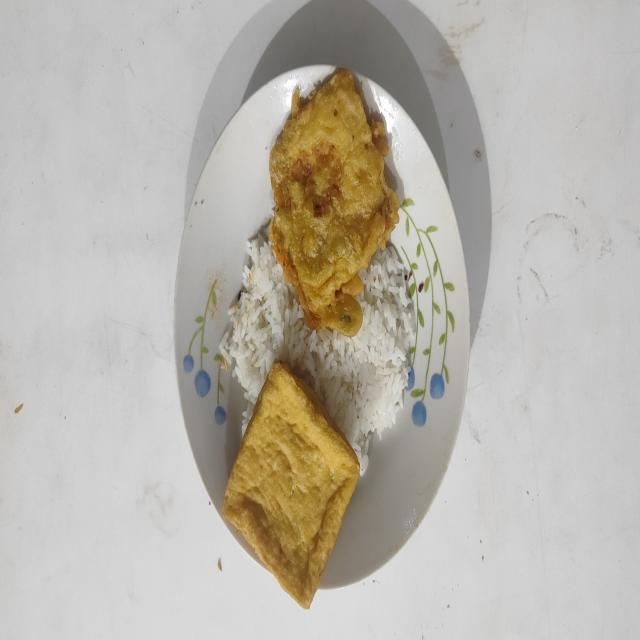nasi_putih: (219, 225, 415, 475)
tahu_goreng: (223, 360, 360, 608)
